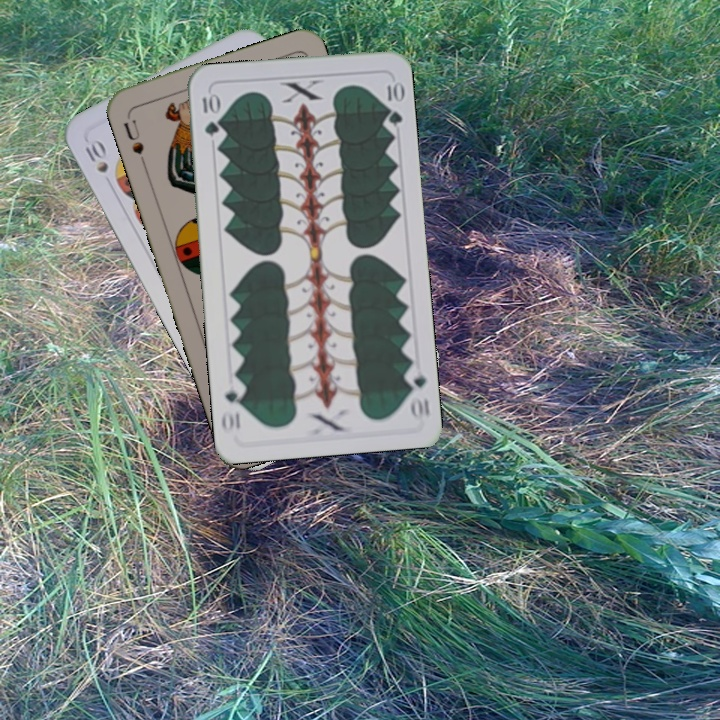G10: (402, 362, 432, 421), (198, 89, 222, 139)
S10: (81, 134, 111, 176)
SU: (120, 111, 149, 169)
